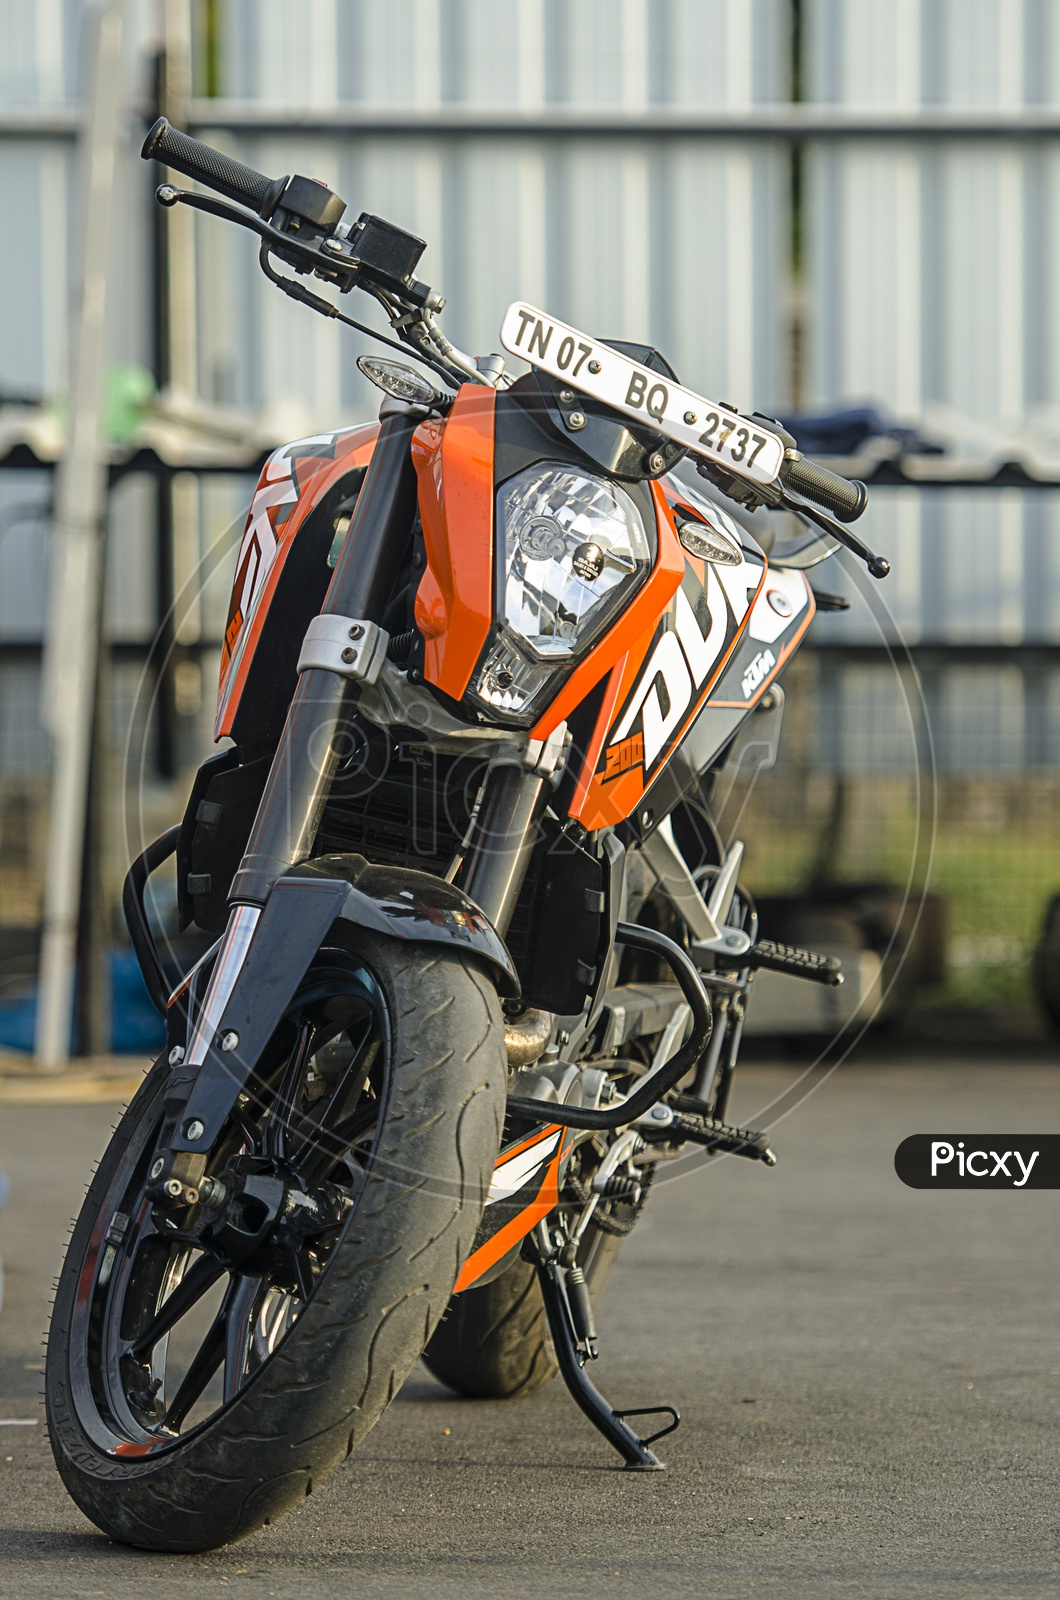numberplate: (497, 292, 790, 487)
